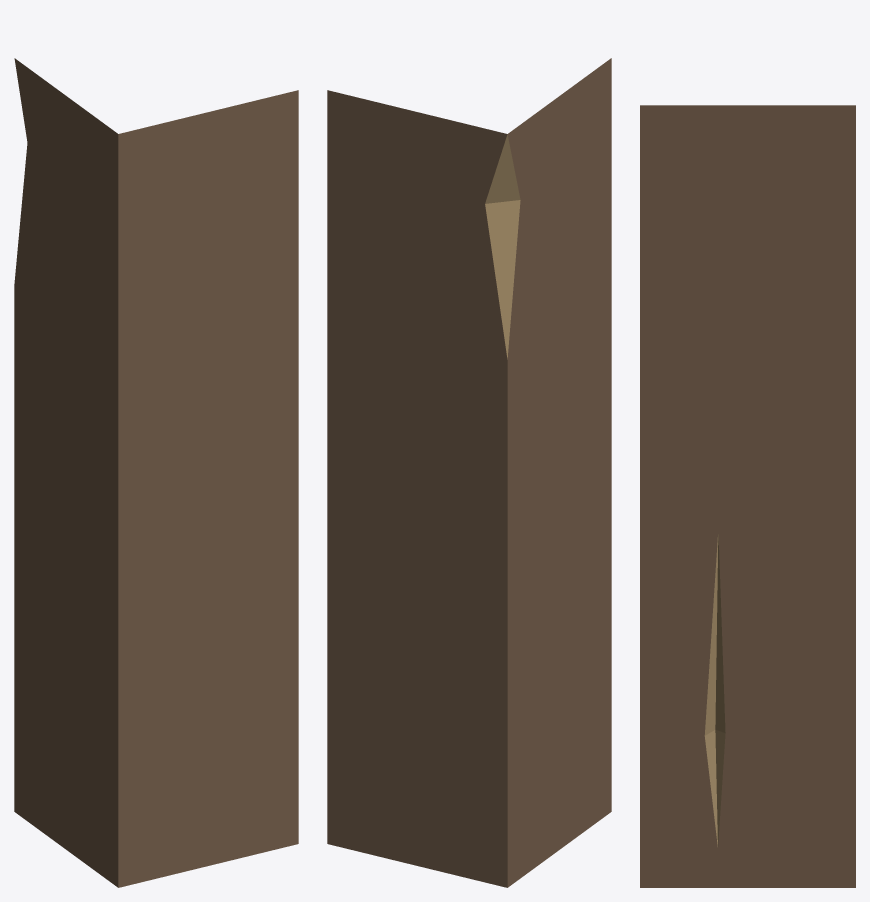
Rendered from Cave_Prop_Support_Wall_Pillar_4.glb.
The picture shows the model from 3 angles, left to right: view 1: azimuth 30°, elevation 25°; view 2: azimuth 150°, elevation 25°; view 3: azimuth 270°, elevation 25°; orthographic projection. The views are drawn at different scales.
Visible parts, largest first — view 1: Cave_Prop_Support_Wall_Pillar_4; view 2: Cave_Prop_Support_Wall_Pillar_4; view 3: Cave_Prop_Support_Wall_Pillar_4.
Part boxes in pixels (left/top/right/bottom): Cave_Prop_Support_Wall_Pillar_4: left=14, top=58, right=298, bottom=887; Cave_Prop_Support_Wall_Pillar_4: left=327, top=58, right=611, bottom=887; Cave_Prop_Support_Wall_Pillar_4: left=640, top=105, right=855, bottom=887.
Bounding box in the file's own units: 0.25 × 1 × 0.25.
